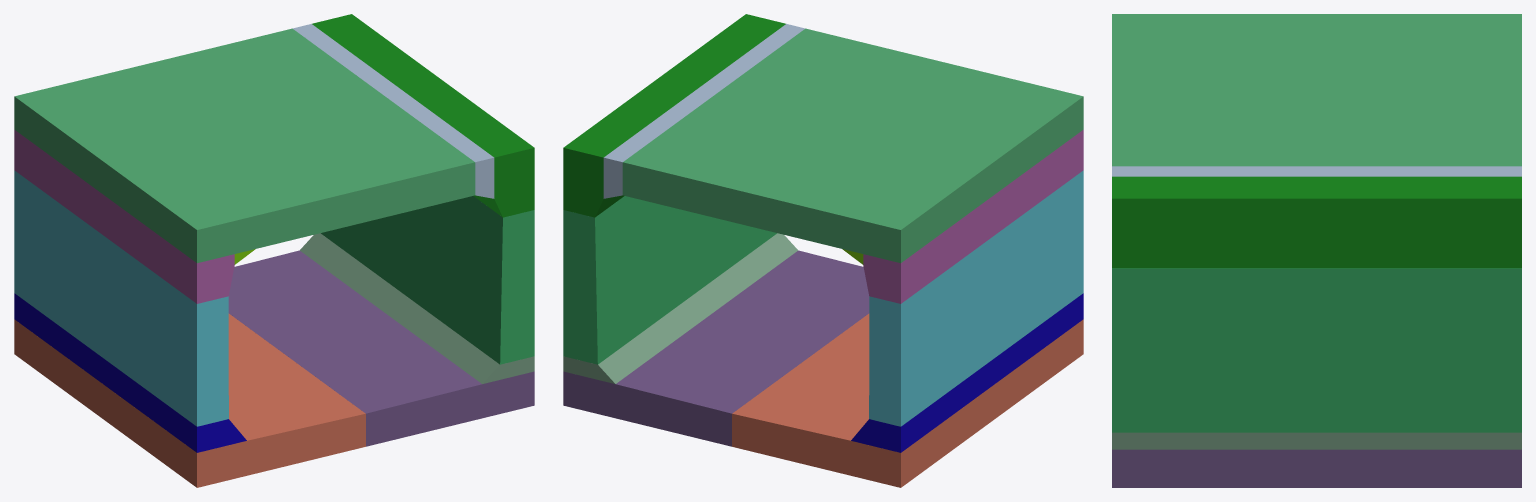
Rendered from hole_6.obj.
The picture shows the model from 3 angles, left to right: view 1: azimuth 30°, elevation 25°; view 2: azimuth 150°, elevation 25°; view 3: azimuth 270°, elevation 25°; orthographic projection. The views are drawn at different scales.
Parts seen in each view (by area): view 1: geometry_3, geometry_2, geometry_1, geometry_9, geometry_10, geometry_8, geometry_7, geometry_0, geometry_5, geometry_6; view 2: geometry_3, geometry_2, geometry_1, geometry_9, geometry_10, geometry_8, geometry_7, geometry_0, geometry_5, geometry_6; view 3: geometry_10, geometry_3, geometry_8, geometry_1, geometry_0, geometry_6.
Boxes of the visible parts, x1=… form: geometry_3: x1=14, y1=28, x2=475, y2=263; geometry_2: x1=14, y1=170, x2=228, y2=426; geometry_1: x1=228, y1=250, x2=534, y2=446; geometry_9: x1=14, y1=313, x2=365, y2=487; geometry_10: x1=321, y1=196, x2=534, y2=364; geometry_8: x1=312, y1=14, x2=534, y2=217; geometry_7: x1=14, y1=130, x2=234, y2=303; geometry_0: x1=300, y1=233, x2=534, y2=383; geometry_5: x1=14, y1=293, x2=246, y2=452; geometry_6: x1=292, y1=24, x2=494, y2=198; geometry_3: x1=622, y1=28, x2=1083, y2=263; geometry_2: x1=869, y1=170, x2=1083, y2=426; geometry_1: x1=563, y1=250, x2=869, y2=446; geometry_9: x1=732, y1=313, x2=1083, y2=487; geometry_10: x1=563, y1=196, x2=776, y2=364; geometry_8: x1=563, y1=14, x2=785, y2=217; geometry_7: x1=863, y1=130, x2=1083, y2=303; geometry_0: x1=563, y1=233, x2=797, y2=383; geometry_5: x1=851, y1=293, x2=1083, y2=452; geometry_6: x1=603, y1=24, x2=805, y2=198; geometry_10: x1=1112, y1=268, x2=1521, y2=432; geometry_3: x1=1112, y1=14, x2=1521, y2=166; geometry_8: x1=1112, y1=176, x2=1521, y2=268; geometry_1: x1=1112, y1=449, x2=1521, y2=487; geometry_0: x1=1112, y1=432, x2=1521, y2=449; geometry_6: x1=1112, y1=166, x2=1521, y2=176.
Bounding box in the file's own units: 0.0533 × 0.0389 × 0.05.
